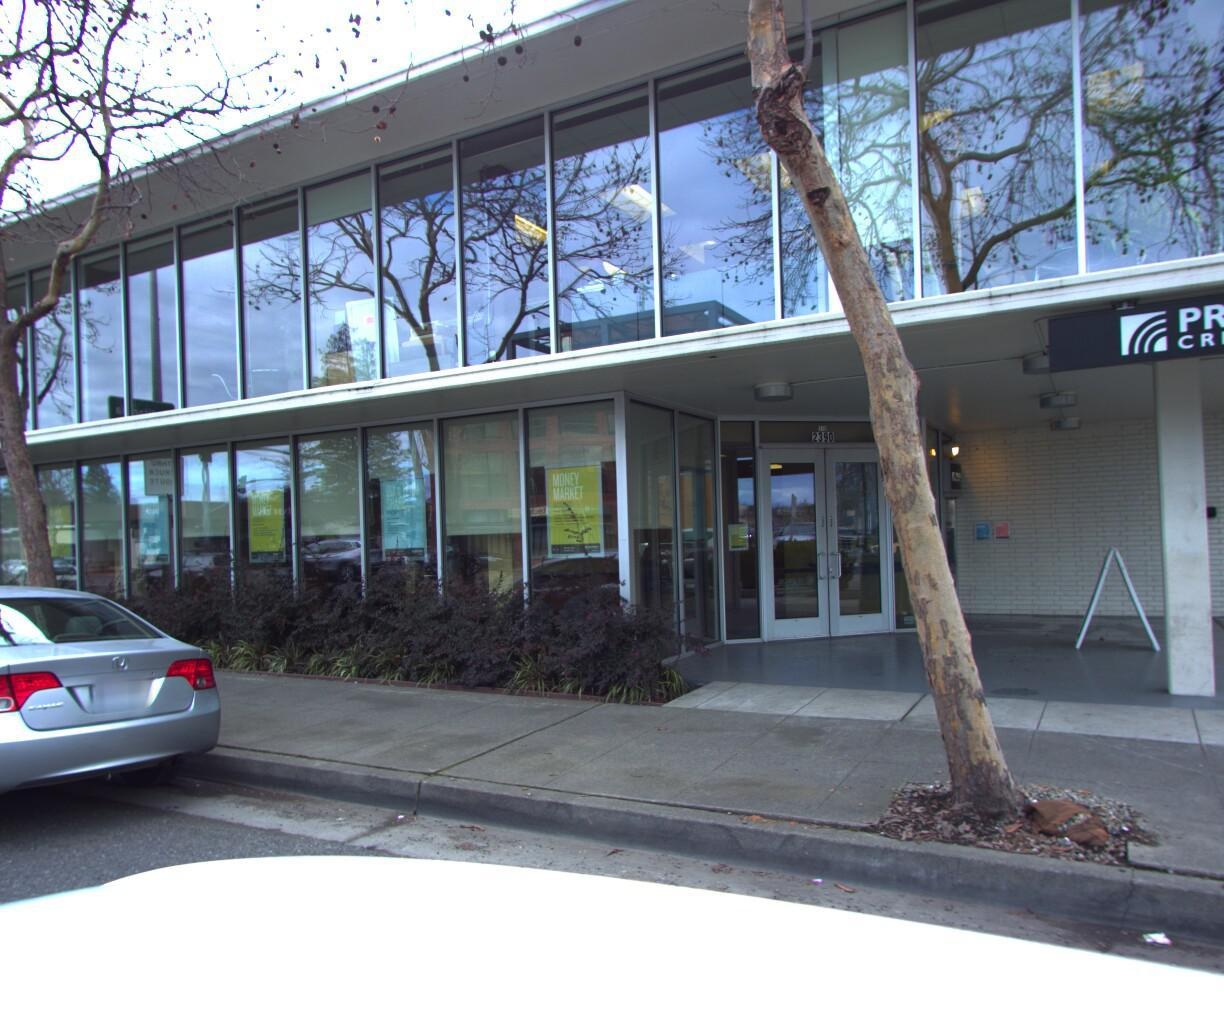car: (0, 561, 262, 904)
